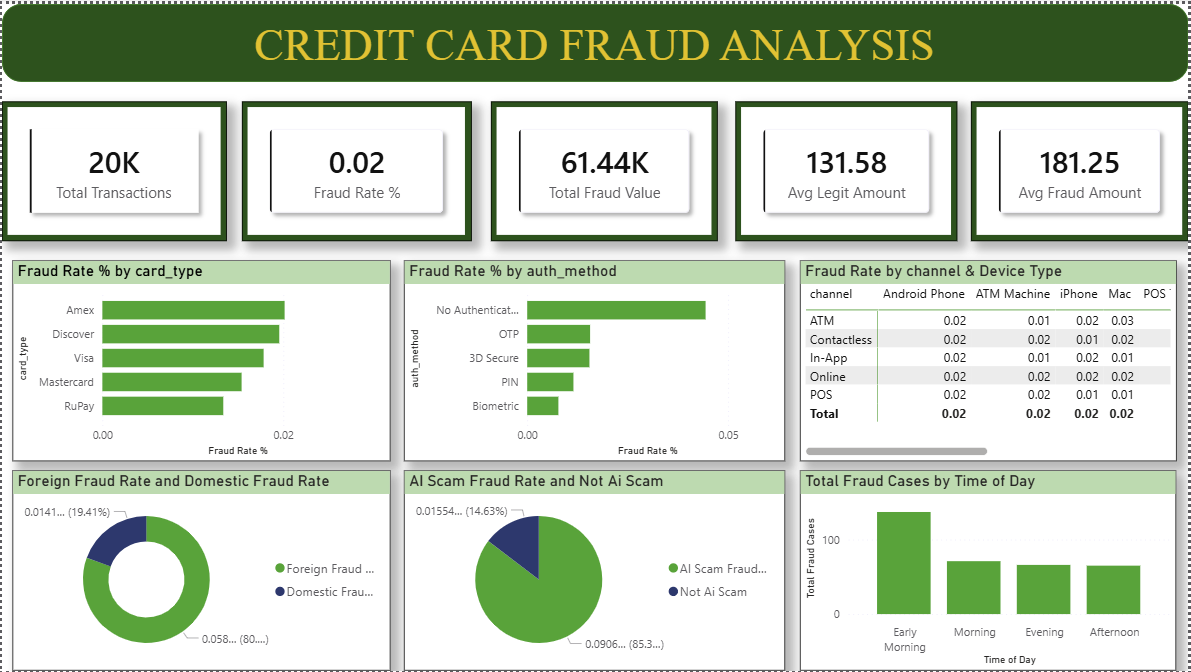

Layout of this report page (visuals, bound fields, positions):
{"tool":"powerbi","page":{"name":"Page 1","canvas":[1280,720],"ordinal":0},"visuals":[{"type":"shape","box":[0,0,1280.8,84.2],"z":0},{"type":"cardVisual","fields":{"Data":["credit_card_fraud_2026.Total Transactions"]},"box":[0,105.2,242.9,150.6],"z":1000},{"type":"cardVisual","fields":{"Data":["credit_card_fraud_2026.Fraud Rate %"]},"box":[259.1,105.2,247.7,150.6],"z":2000},{"type":"cardVisual","fields":{"Data":["credit_card_fraud_2026.Total Fraud Value"]},"box":[527.9,105.2,244.5,150.6],"z":3000},{"type":"cardVisual","fields":{"Data":["credit_card_fraud_2026.Avg Fraud Amount"]},"box":[1046,105.2,234.8,150.6],"z":4000},{"type":"cardVisual","fields":{"Data":["credit_card_fraud_2026.Average Legit Amount"]},"box":[791.8,105.2,239.6,150.6],"z":5000},{"type":"textbox","box":[259.1,11.3,761,72.9],"z":6000},{"type":"clusteredBarChart","fields":{"Y":["credit_card_fraud_2026.Fraud Rate %"],"Category":["credit_card_fraud_2026.card_type"]},"box":[11.3,276.9,408,217],"z":7000},{"type":"barChart","fields":{"Y":["credit_card_fraud_2026.Fraud Rate %"],"Category":["credit_card_fraud_2026.auth_method"]},"box":[434,276.9,411.3,217],"z":8000},{"type":"pivotTable","title":"Fraud Rate by channel & Device Type ","fields":{"Values":["credit_card_fraud_2026.Fraud Rate %"],"Rows":["credit_card_fraud_2026.channel"],"Columns":["credit_card_fraud_2026.device_type"]},"box":[861.4,276.9,406.4,217],"z":9000},{"type":"donutChart","fields":{"Y":["credit_card_fraud_2026.Foreign Fraud Rate","credit_card_fraud_2026.Domestic Fraud Rate"]},"box":[11,504,408,216],"z":10000},{"type":"pieChart","fields":{"Y":["credit_card_fraud_2026.AI Scam Fraud Rate","credit_card_fraud_2026.Not Ai Scam"]},"box":[434,504,411,216],"z":11000},{"type":"lineStackedColumnComboChart","fields":{"Y":["credit_card_fraud_2026.Total Fraud Cases"],"Category":["credit_card_fraud_2026.Time of Day"]},"box":[861,504,406,216],"z":12000}]}

Visuals, with their boxes in screenshot pixels (x1, y1, x2, y2), scaled from the page's 1280x720 canvas onto the 1191x672 screenshot:
shape: (0, 0, 1190, 79)
cardVisual - credit_card_fraud_2026.Total Transactions: (0, 98, 226, 239)
cardVisual - credit_card_fraud_2026.Fraud Rate %: (241, 98, 472, 239)
cardVisual - credit_card_fraud_2026.Total Fraud Value: (491, 98, 719, 239)
cardVisual - credit_card_fraud_2026.Avg Fraud Amount: (973, 98, 1190, 239)
cardVisual - credit_card_fraud_2026.Average Legit Amount: (737, 98, 960, 239)
textbox: (241, 11, 949, 79)
clusteredBarChart - credit_card_fraud_2026.Fraud Rate % x credit_card_fraud_2026.card_type: (11, 258, 390, 461)
barChart - credit_card_fraud_2026.Fraud Rate % x credit_card_fraud_2026.auth_method: (404, 258, 787, 461)
"Fraud Rate by channel & Device Type " pivotTable: (802, 258, 1180, 461)
donutChart - credit_card_fraud_2026.Foreign Fraud Rate x credit_card_fraud_2026.Domestic Fraud Rate: (10, 470, 390, 671)
pieChart - credit_card_fraud_2026.AI Scam Fraud Rate x credit_card_fraud_2026.Not Ai Scam: (404, 470, 786, 671)
lineStackedColumnComboChart - credit_card_fraud_2026.Total Fraud Cases x credit_card_fraud_2026.Time of Day: (801, 470, 1179, 671)
